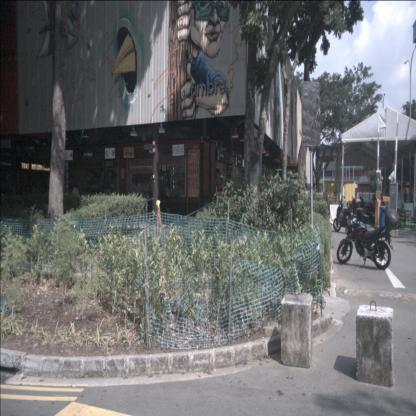human-pedestrian-adult: (69, 182, 80, 218), (165, 175, 170, 219), (359, 191, 363, 204), (404, 190, 407, 206)
movable_object-trafficcone: (155, 201, 163, 226)
vehicle-motorcycle: (336, 209, 400, 270), (333, 195, 362, 233)
